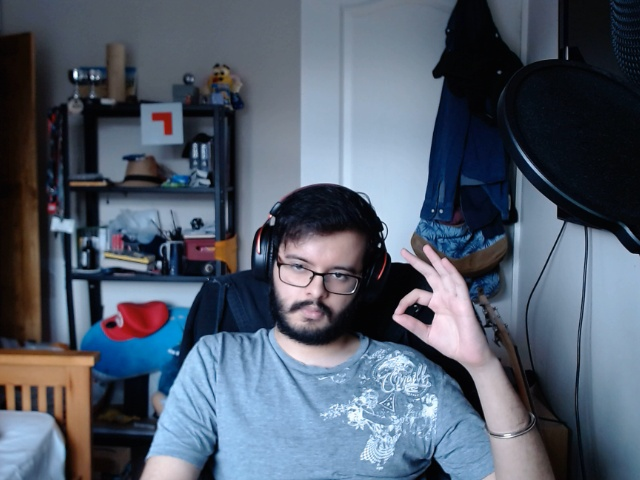Okay: (389, 241, 495, 367)
